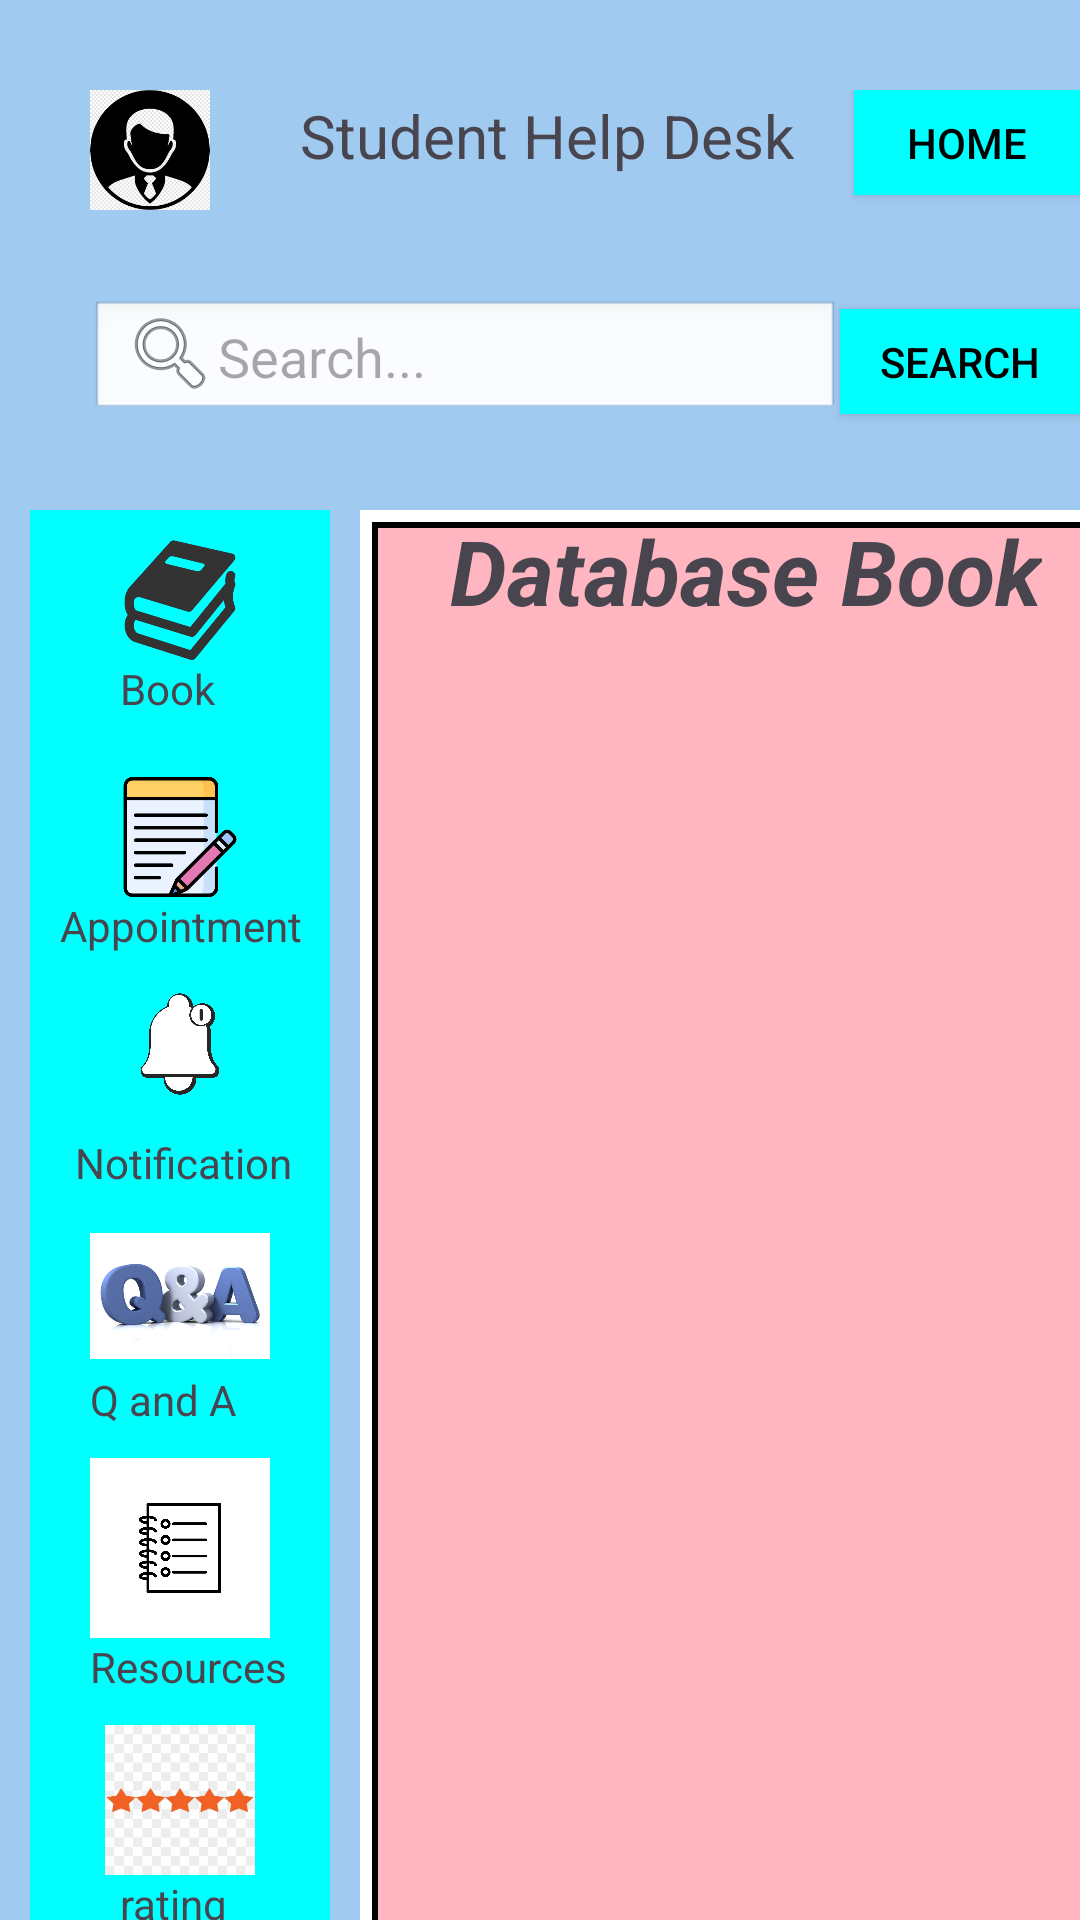

Icon bounding boxes for this 1080 × 1920 phone screenshot, format (x1=x1, y1=y1, x2=x2, y2=y2):
profile: (x1=90, y1=90, x2=210, y2=210)
